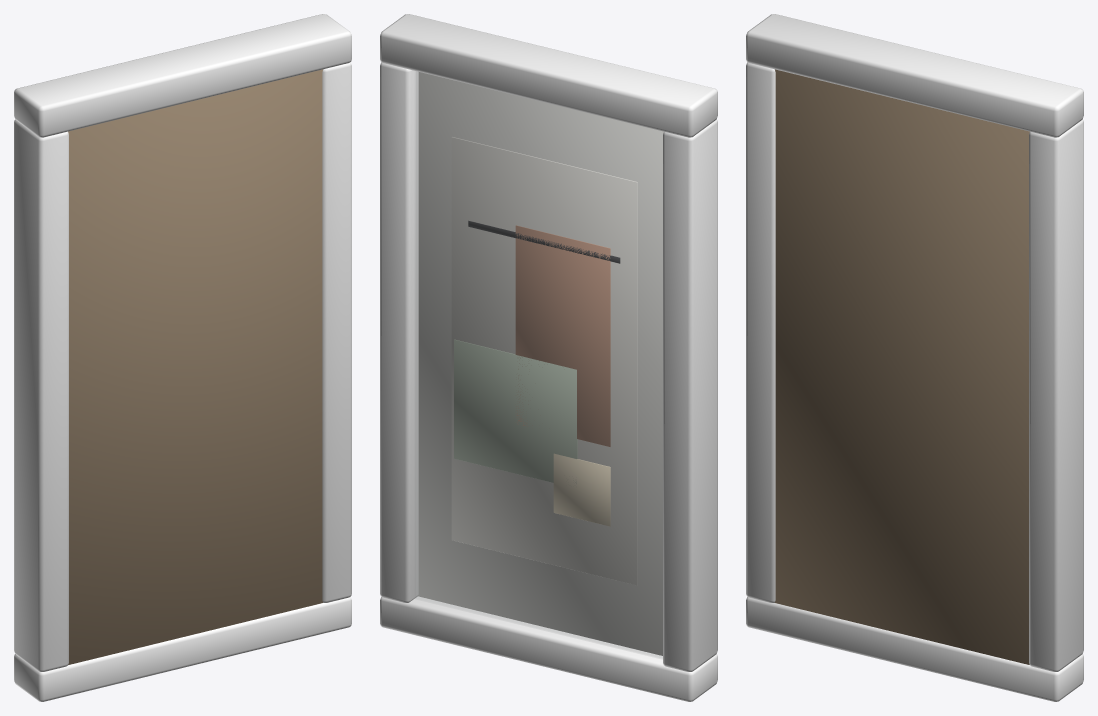
The model's file is picture-frame-deep.glb.
3 renders of one model, left to right at view 1: azimuth 30°, elevation 25°; view 2: azimuth 150°, elevation 25°; view 3: azimuth 330°, elevation 25°, orthographic.
Visible parts, largest first — view 1: Hardboard backing, Deep frame moulding stile, Deep frame moulding rail.001, Deep frame moulding stile.001, Deep frame moulding rail; view 2: Picture glass, Bevelled mount board, Matte print, Deep frame moulding stile, Deep frame moulding stile.001, Deep frame moulding rail.001, Printed colour field, Printed colour field.001, Deep frame moulding rail, Printed colour field.002, Printed colour field.003; view 3: Hardboard backing, Deep frame moulding stile.001, Deep frame moulding rail.001, Deep frame moulding stile, Deep frame moulding rail.
Boxes of the visible parts, box(x1,y1,x2,y2) form: Hardboard backing: box(68, 69, 322, 664); Deep frame moulding stile: box(14, 119, 68, 671); Deep frame moulding rail.001: box(14, 14, 351, 137); Deep frame moulding stile.001: box(322, 62, 351, 602); Deep frame moulding rail: box(14, 597, 351, 701); Picture glass: box(415, 71, 663, 658); Bevelled mount board: box(418, 72, 663, 655); Matte print: box(451, 137, 637, 585); Deep frame moulding stile: box(663, 119, 717, 671); Deep frame moulding stile.001: box(380, 62, 418, 602); Deep frame moulding rail.001: box(380, 14, 717, 137); Printed colour field: box(515, 225, 610, 446); Printed colour field.001: box(454, 339, 577, 483); Deep frame moulding rail: box(380, 596, 717, 701); Printed colour field.002: box(553, 453, 610, 526); Printed colour field.003: box(468, 220, 620, 263); Hardboard backing: box(775, 69, 1029, 664); Deep frame moulding stile.001: box(1029, 119, 1083, 671); Deep frame moulding rail.001: box(746, 14, 1083, 137); Deep frame moulding stile: box(746, 62, 775, 602); Deep frame moulding rail: box(746, 597, 1083, 701).
Bounding box in the file's own units: 0.33 × 0.6 × 0.051.
